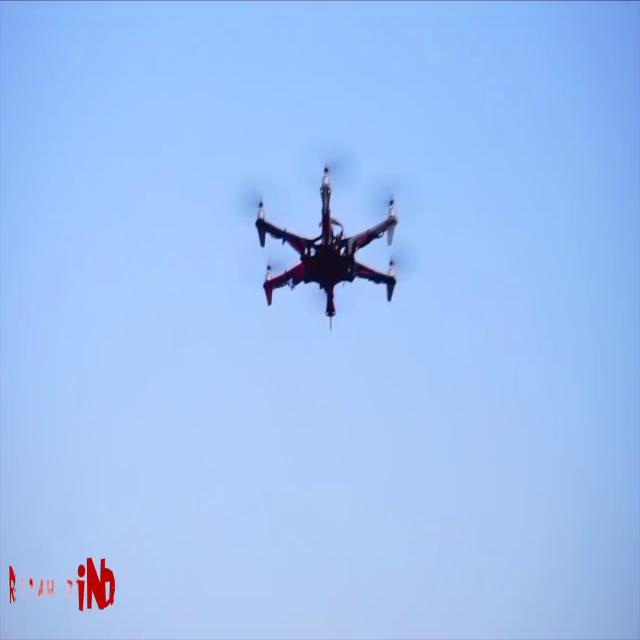drone: (234, 145, 426, 348)
